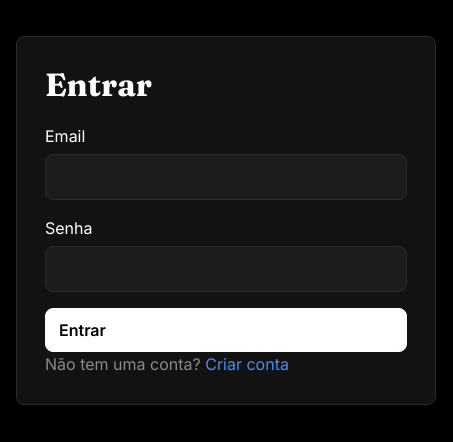
Test: LoginPage › shows the server validation message after a failed login
The width and height of the screenshot is (453, 442).
Type "ada@example.com" into the field labelled "Email" at (226, 176), box [45,154,407,200]
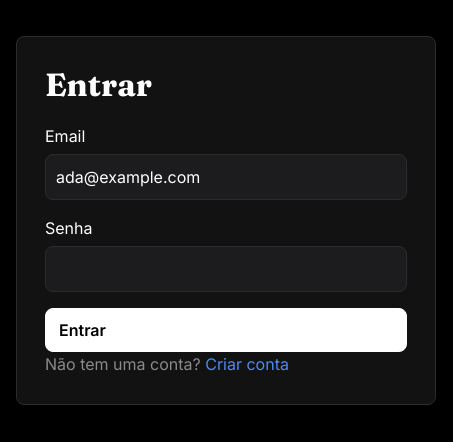
Type "correct-horse-battery-staple" into the password field labelled "Senha" at (226, 268), box [45,246,407,292]
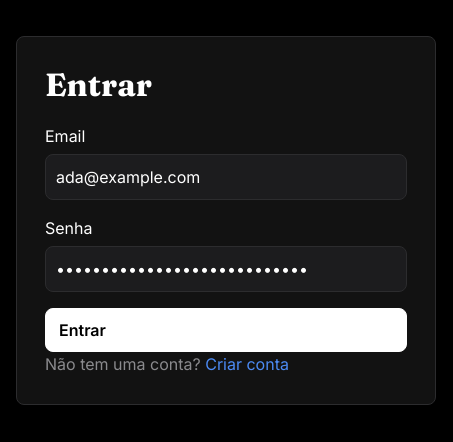
Click the button "Entrar" at (82, 330), box [45,308,407,352]
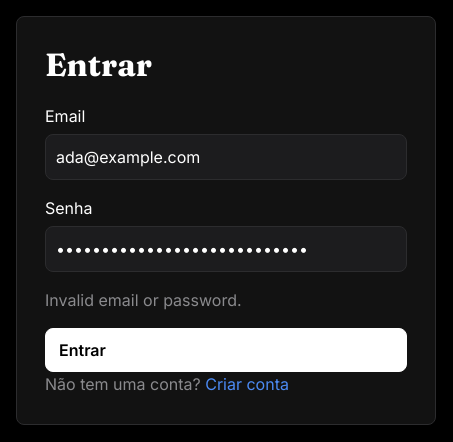
Now the message reads "Invalid email or password.", box [45,290,242,310]
